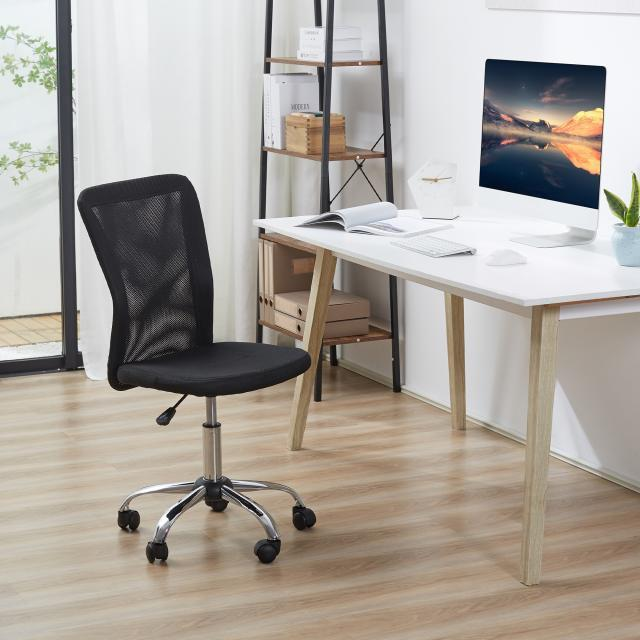chair: (66, 166, 324, 578)
